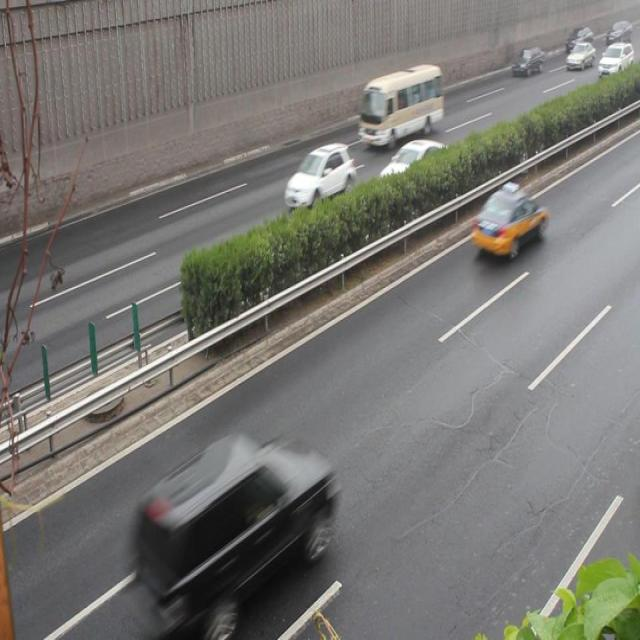car: (130, 434, 333, 630), (470, 187, 548, 257), (284, 141, 356, 212), (378, 137, 453, 204), (510, 45, 544, 78)
van: (358, 65, 443, 146)
